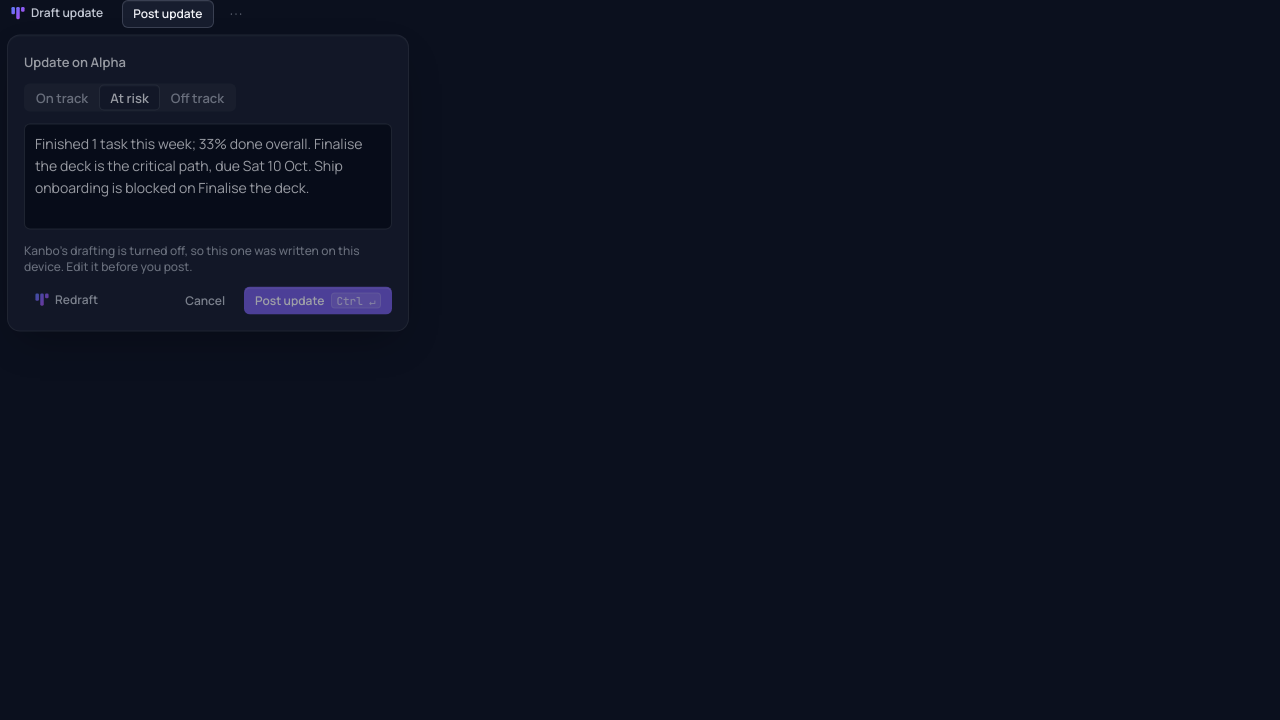
Test case: ProjectActions — posting an update › falls back to the on-device draft when Kanbo can't answer (unavailable), and says why without saying AI
Click the button "Draft update".
click(57, 14)  # box left=0, top=0, right=114, bottom=28
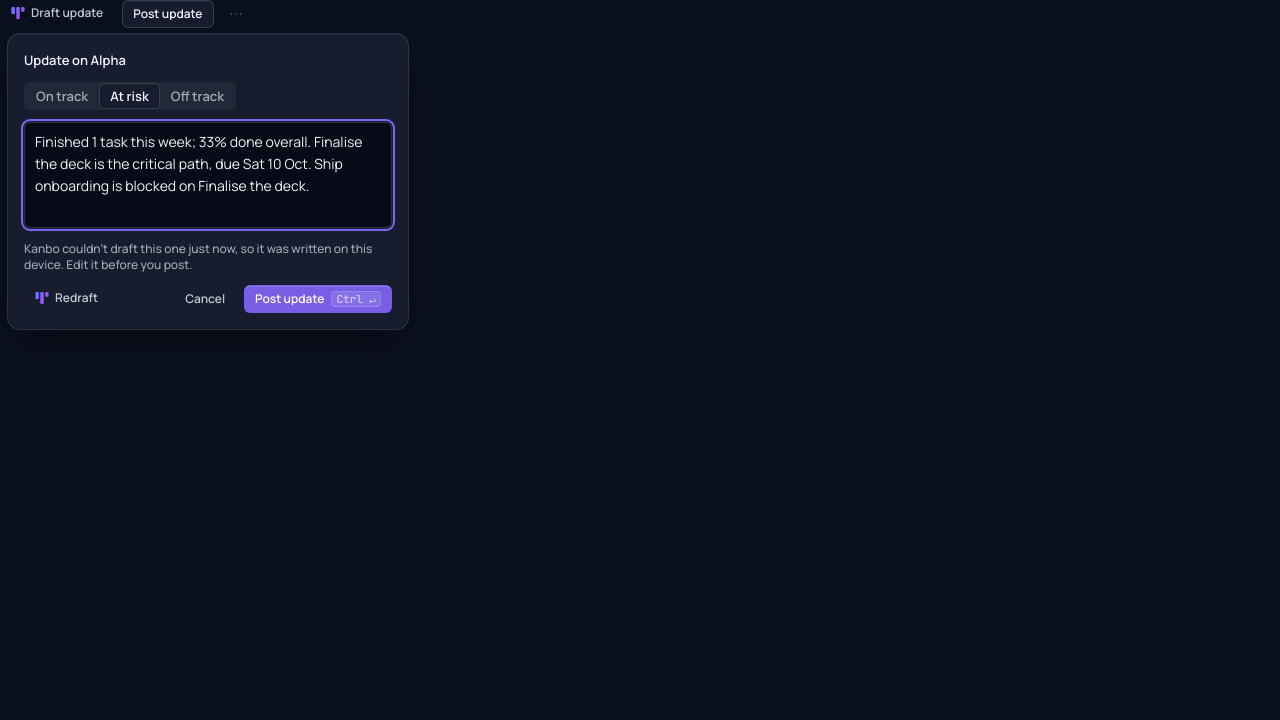
expect the text "Kanbo couldn't draft this one just now, so it was written on this device." is shown: met, box left=24, top=240, right=372, bottom=273
